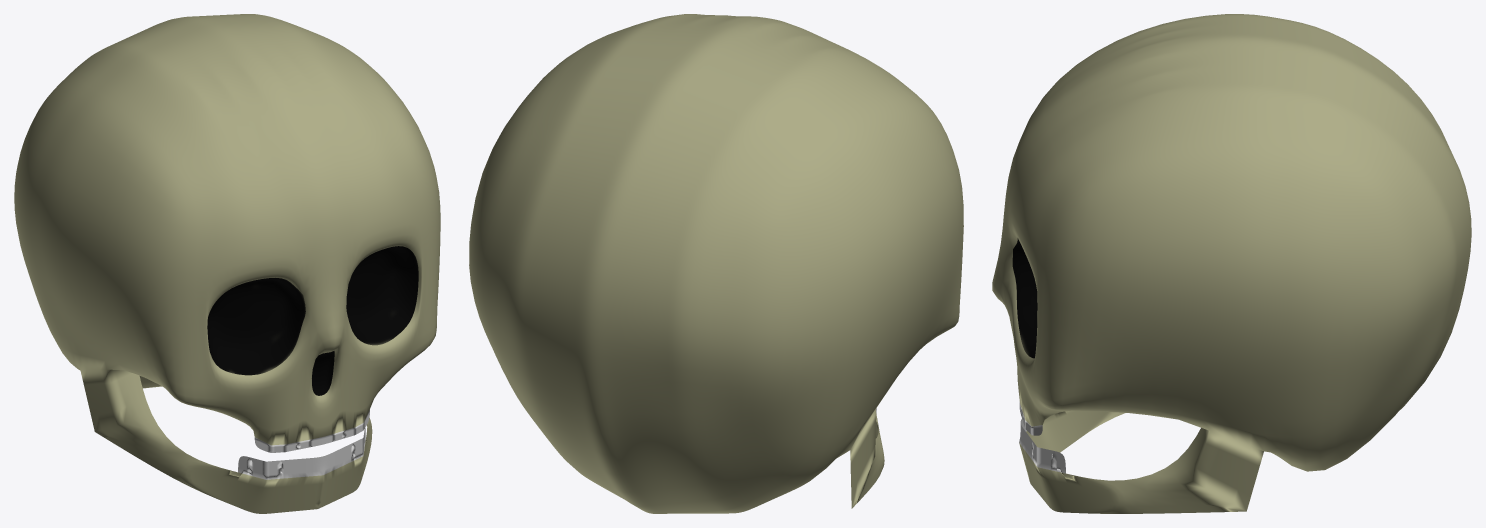
The model's file is Skull_test2.glb.
3 renders of one model, left to right at view 1: azimuth 30°, elevation 25°; view 2: azimuth 150°, elevation 25°; view 3: azimuth 270°, elevation 25°, orthographic. The views are drawn at different scales.
Visible parts, largest first — view 1: Dup skull.001; view 2: Dup skull.001; view 3: Dup skull.001.
Part boxes in pixels (x1,y1,x2,y2): Dup skull.001: (14, 14, 440, 513); Dup skull.001: (469, 14, 963, 513); Dup skull.001: (992, 14, 1471, 513).
Size of the model in its own units: 0.6862 by 0.7723 by 0.7523.
Materials: 1 (1 with a texture image).
